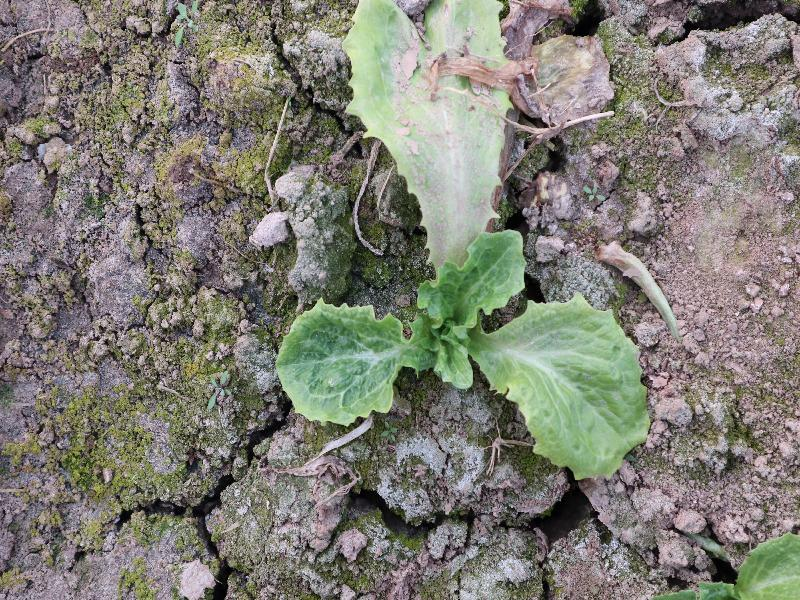lettuce: (275, 0, 651, 480)
